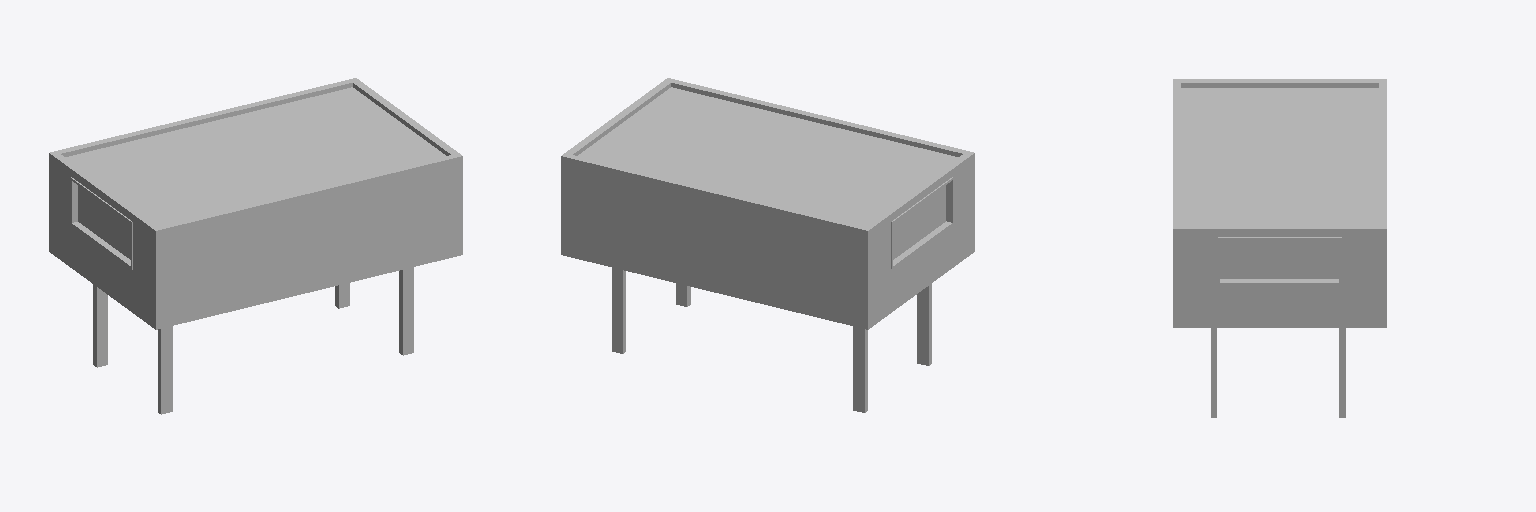
The model's file is Building_5.obj.
3 renders of one model, left to right at view 1: azimuth 30°, elevation 25°; view 2: azimuth 150°, elevation 25°; view 3: azimuth 270°, elevation 25°, orthographic.
Parts seen in each view (by area): view 1: Building_5; view 2: Building_5; view 3: Building_5.
Boxes of the visible parts, x1=… form: Building_5: x1=49, y1=78, x2=462, y2=414; Building_5: x1=561, y1=78, x2=974, y2=412; Building_5: x1=1173, y1=79, x2=1386, y2=417.
Bounding box in the file's own units: 8.71 × 5.46 × 5.21.